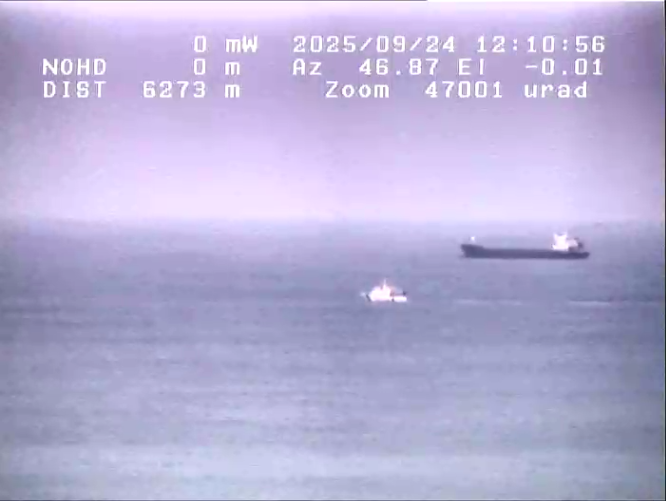PATROL_VESSEL: (345, 278, 415, 314)
TANKER: (452, 228, 615, 265)
